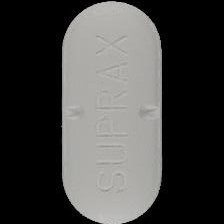55289-954: (0, 0, 224, 224)
